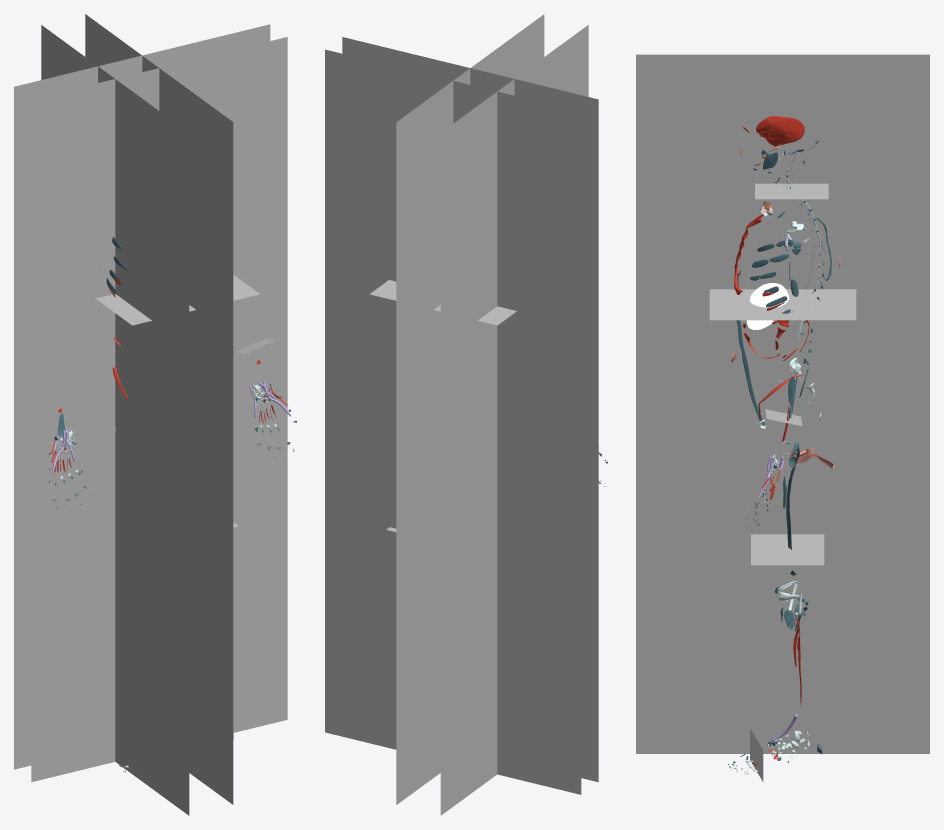
The model's file is misc.glb.
3 views of the same model, side by side, from view 1: azimuth 30°, elevation 25°; view 2: azimuth 150°, elevation 25°; view 3: azimuth 270°, elevation 25° (orthographic).
Visible parts, largest first — view 1: mi0336, mi1200, mi1089, mi1779; view 2: mi0336, mi1200, mi1089, mi1779; view 3: mi1089, mi1779, mi1200, mi1109, mi1718.
Part boxes in pixels (box(x1,y1,x2,y2)): mi0336: box(14, 24, 287, 782); mi1200: box(41, 25, 189, 815); mi1089: box(85, 14, 233, 804); mi1779: box(95, 274, 275, 739); mi0336: box(325, 37, 598, 794); mi1200: box(440, 25, 588, 815); mi1089: box(396, 14, 544, 804); mi1779: box(370, 280, 516, 531); mi1089: box(636, 76, 929, 753); mi1779: box(709, 183, 856, 781); mi1200: box(636, 54, 929, 75); mi1109: box(746, 283, 789, 329); mi1718: box(766, 116, 804, 141).
Size of the model in its own units: 0.6836 by 1.74 by 0.6836.
